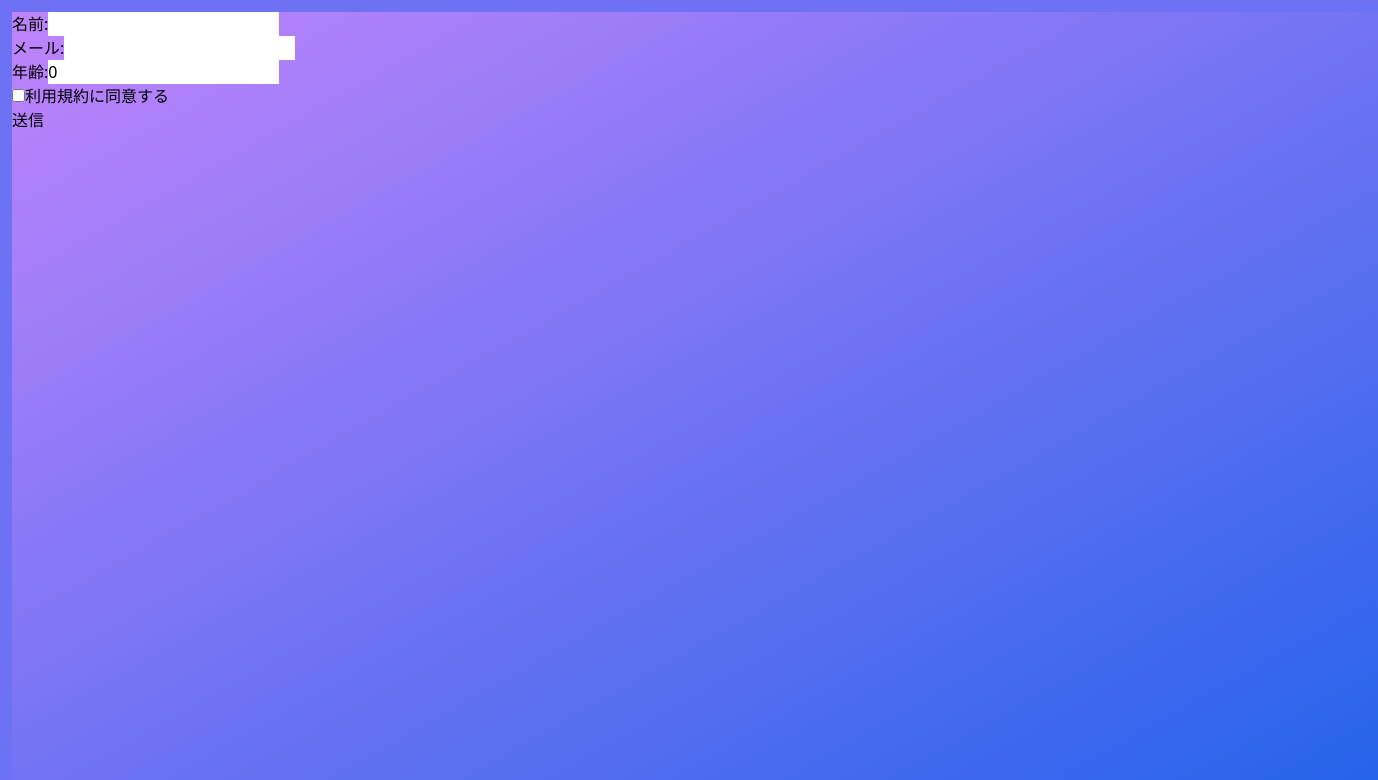
Test: FormComponent › 入力を修正するとエラーがクリアされる
# まずエラーを発生させる
Click the button with test id "submit-button". click: (28, 120)
box: [12, 108, 44, 132]
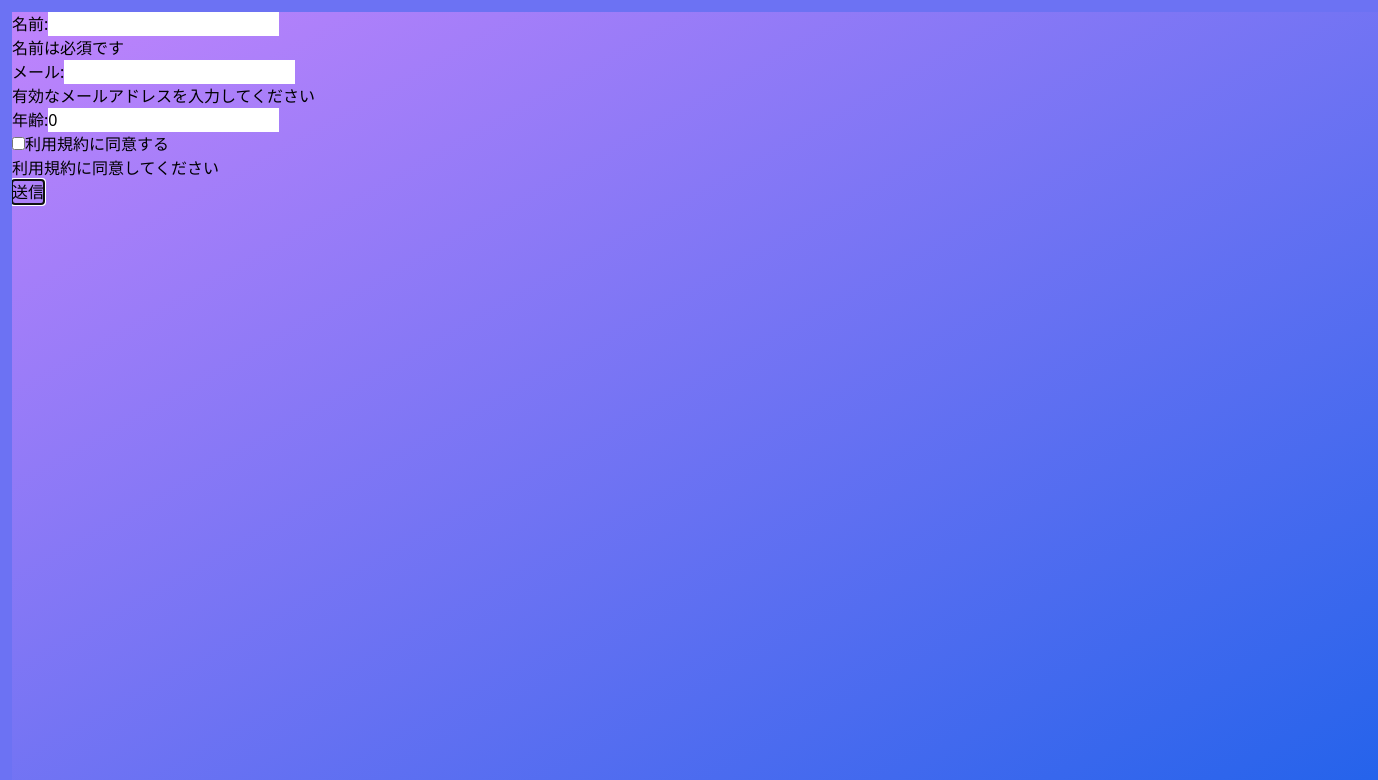
Result: the message "名前は必須です" is shown at [12, 37, 124, 59]
# 名前を入力してエラーをクリア
Type "田中太郎" into the field with test id "name-input". click: (164, 24)
box: [48, 12, 279, 36]
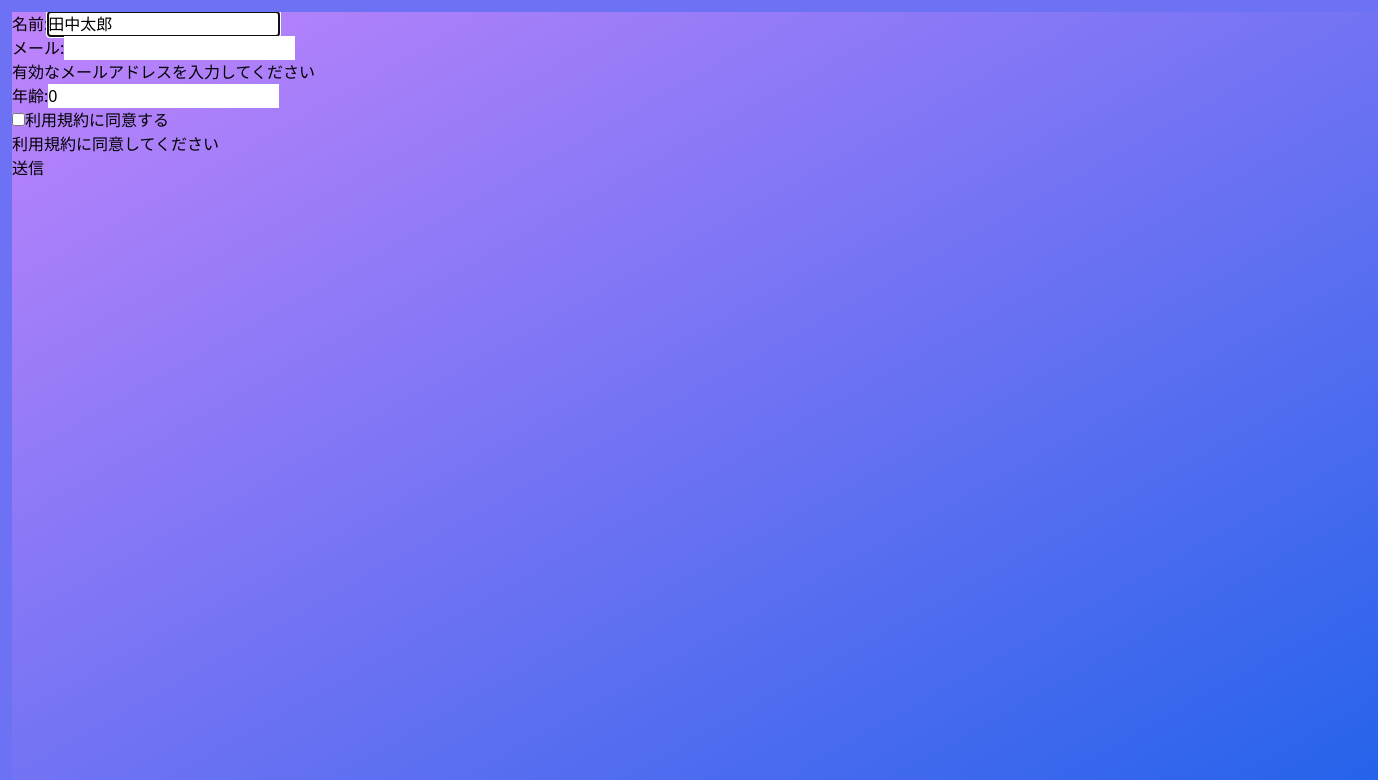
Result: the message with test id "name-error" is gone
